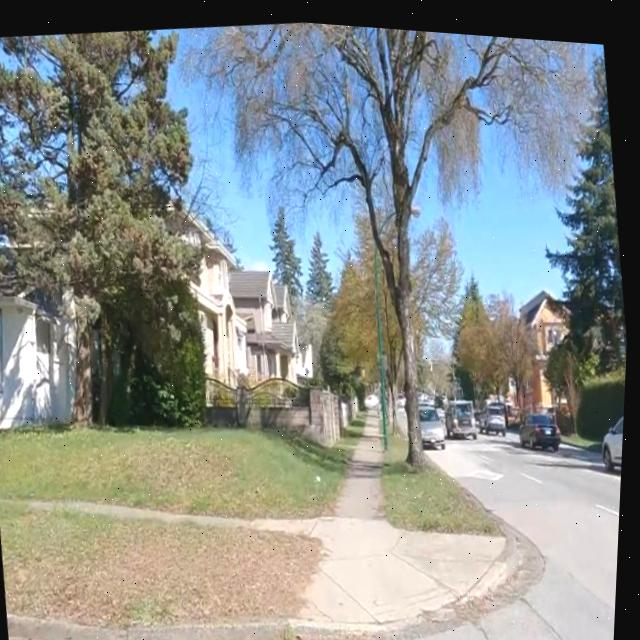Automobile: (523, 404, 563, 440), (605, 403, 627, 460), (448, 393, 479, 430), (422, 397, 448, 440), (486, 394, 508, 425)
Road: (382, 427, 625, 640)
Sidewalk: (79, 501, 526, 627), (338, 402, 388, 512)
